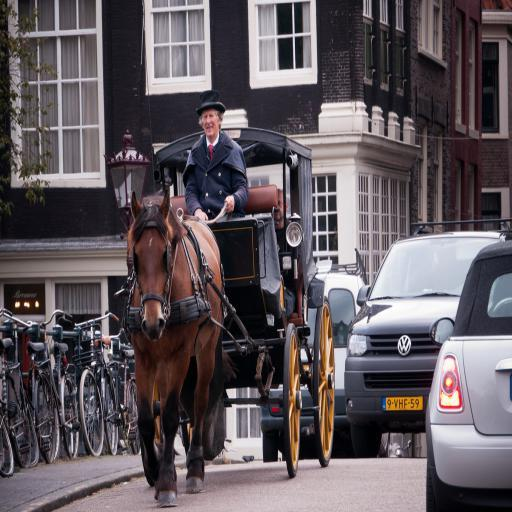Horse: (125, 189, 224, 505)
